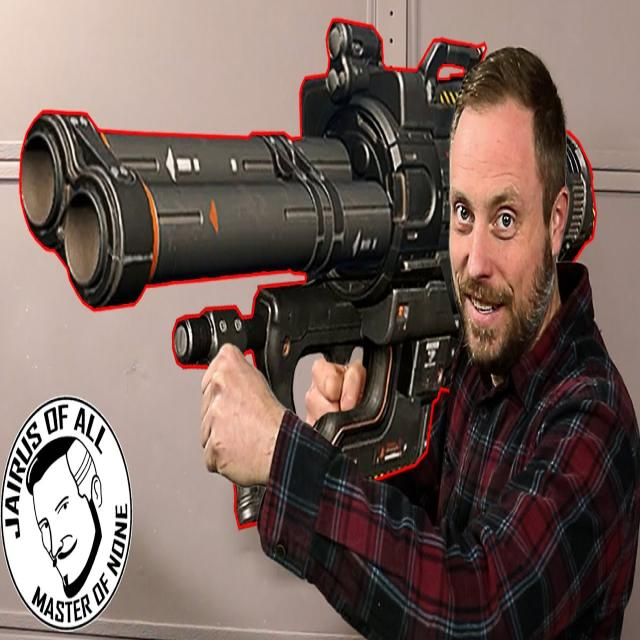bazooka: (18, 5, 619, 570)
